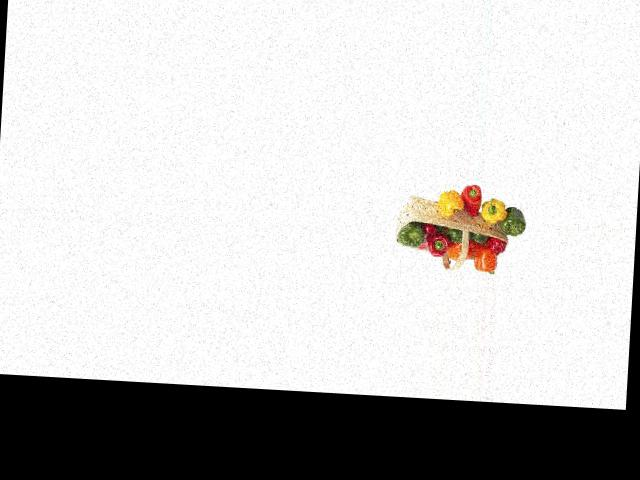bell_pepper: (397, 223, 427, 248)
